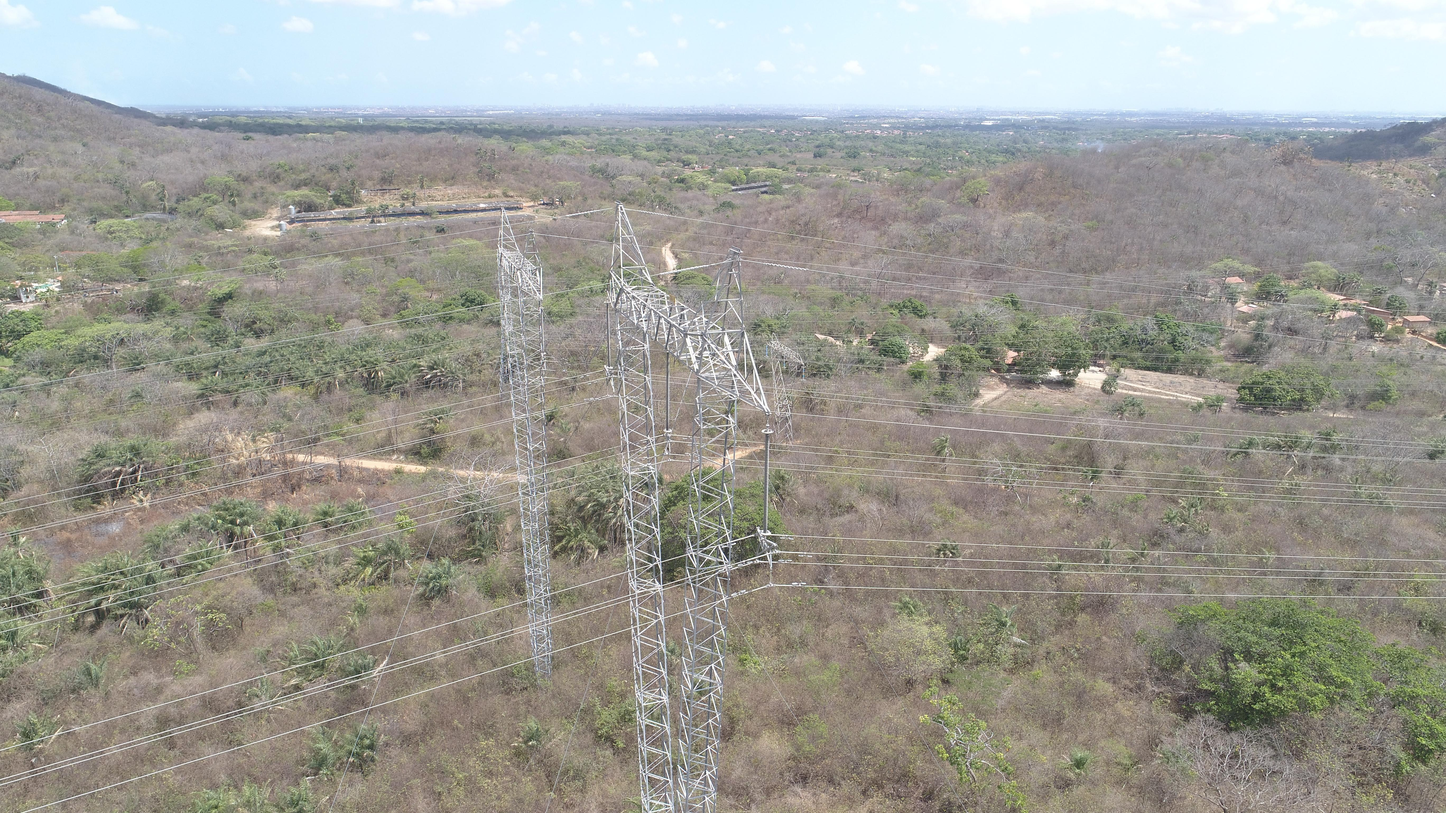power_tower: (602, 202, 779, 813), (493, 203, 558, 674), (763, 330, 806, 453)
